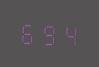four: (59, 20, 78, 48)
nine: (39, 19, 58, 47)
six: (18, 18, 37, 46)
